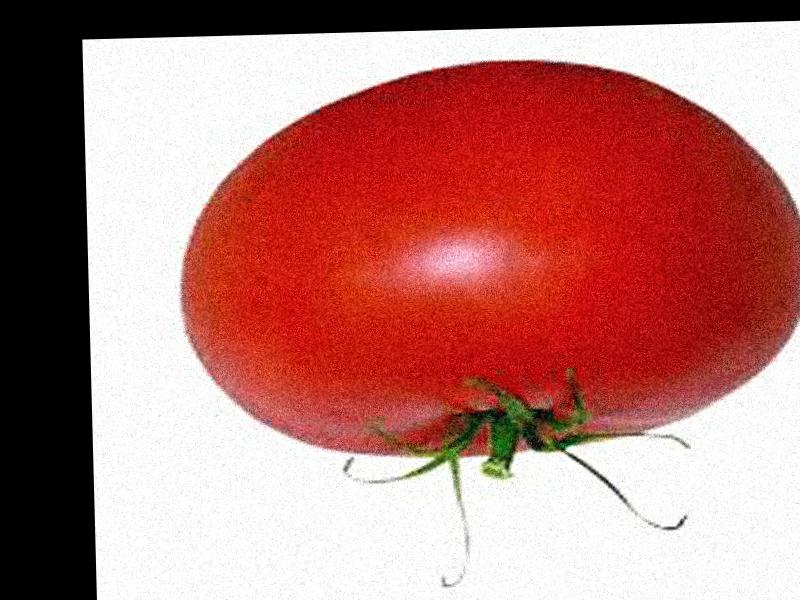Tomato: (170, 55, 800, 466)
